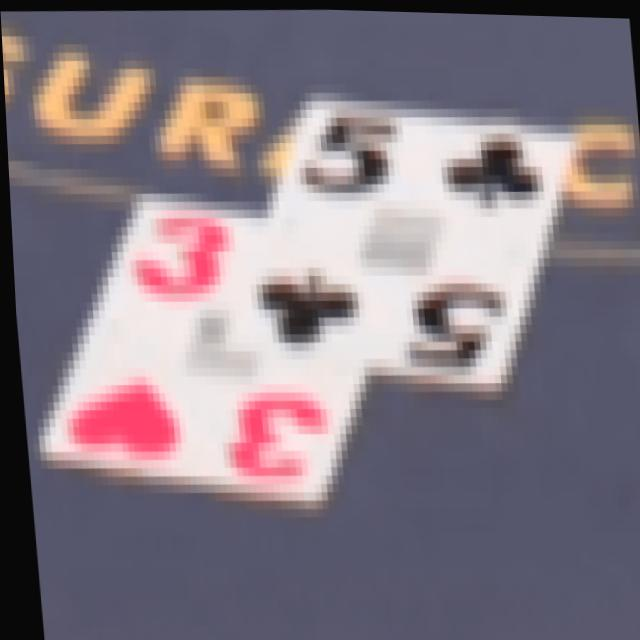Card-3: (37, 200, 359, 503)
Card-5: (223, 94, 568, 387)
